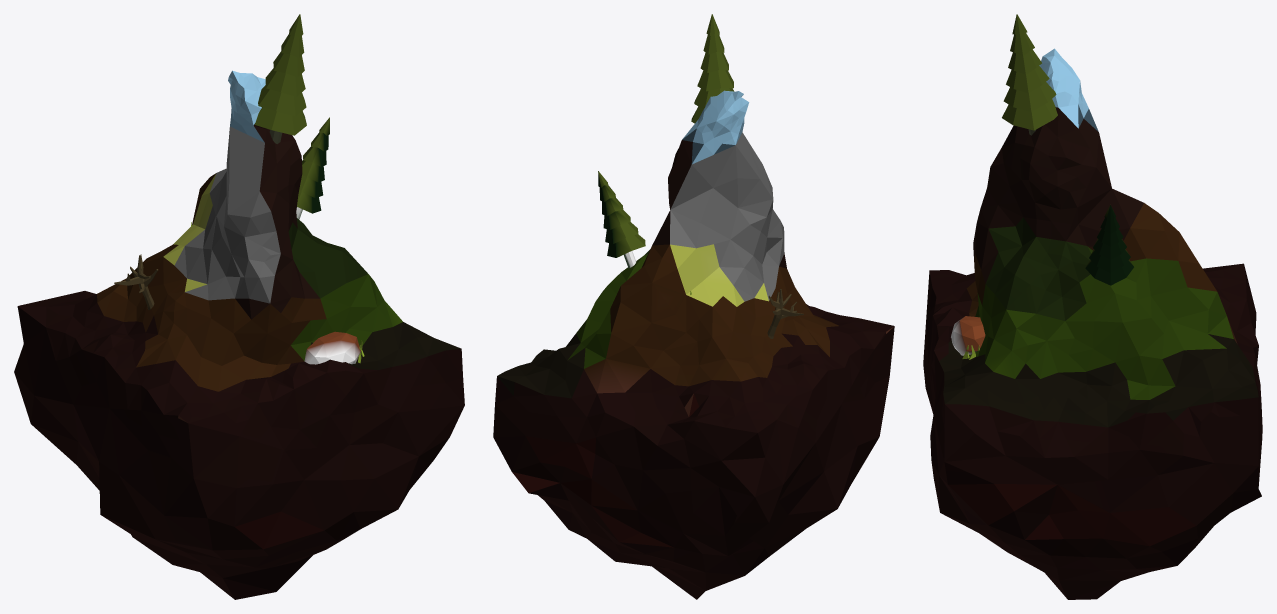
Rendered from mountain.fbx.
The picture shows the model from 3 angles, left to right: view 1: azimuth 30°, elevation 25°; view 2: azimuth 150°, elevation 25°; view 3: azimuth 270°, elevation 25°; orthographic projection. The views are drawn at different scales.
Parts seen in each view (by area): view 1: Икосфера, Икосфера.001, Икосфера.003, SapinHiver.001, SapinHiver.015, Икосфера.002, caillou1.002, Arbre Automne.001; view 2: Икосфера, Икосфера.001, Икосфера.003, Икосфера.002, SapinHiver.015, SapinHiver.001, Arbre Automne.001; view 3: Икосфера, Икосфера.003, SapinHiver.001, SapinHiver.015, Икосфера.002, caillou1.002.
Part boxes in pixels (left/top/right/bottom): Икосфера: left=14, top=124, right=464, bottom=599; Икосфера.001: left=163, top=126, right=280, bottom=303; Икосфера.003: left=288, top=218, right=460, bottom=369; SapinHiver.001: left=254, top=14, right=306, bottom=143; SapinHiver.015: left=296, top=117, right=329, bottom=219; Икосфера.002: left=228, top=70, right=265, bottom=142; caillou1.002: left=304, top=331, right=360, bottom=364; Arbre Automne.001: left=114, top=254, right=158, bottom=309; Икосфера: left=493, top=140, right=894, bottom=599; Икосфера.001: left=670, top=132, right=784, bottom=306; Икосфера.003: left=497, top=250, right=649, bottom=398; Икосфера.002: left=682, top=90, right=749, bottom=164; SapinHiver.015: left=598, top=171, right=645, bottom=268; SapinHiver.001: left=691, top=14, right=734, bottom=123; Arbre Automne.001: left=767, top=289, right=803, bottom=338; Икосфера: left=923, top=107, right=1262, bottom=599; Икосфера.003: left=939, top=217, right=1258, bottom=427; SapinHiver.001: left=1002, top=14, right=1057, bottom=135; SapinHiver.015: left=1085, top=205, right=1133, bottom=285; Икосфера.002: left=1039, top=48, right=1098, bottom=131; caillou1.002: left=951, top=316, right=985, bottom=355.
Bounding box in the file's own units: 138 × 266 × 137.
